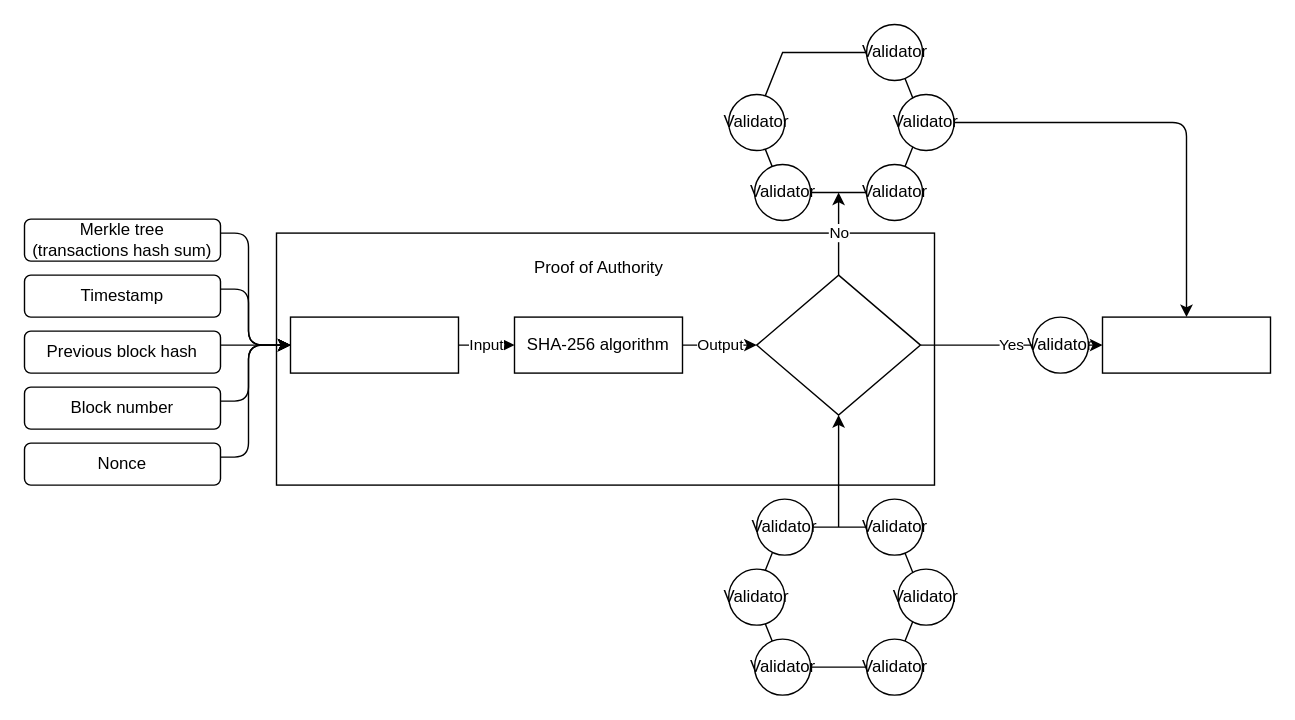
Some shapes in this 1295 by 720 pixel diagram are drawn without their labels. Each missing label, with the box of its shape:
Create a block header: (289, 316, 458, 373)
Create a new block: (1101, 316, 1270, 373)
Network of approved validators: (753, 526, 923, 667)
Network of verifiers: (753, 51, 923, 192)
Validator ID selected: (755, 274, 920, 415)
